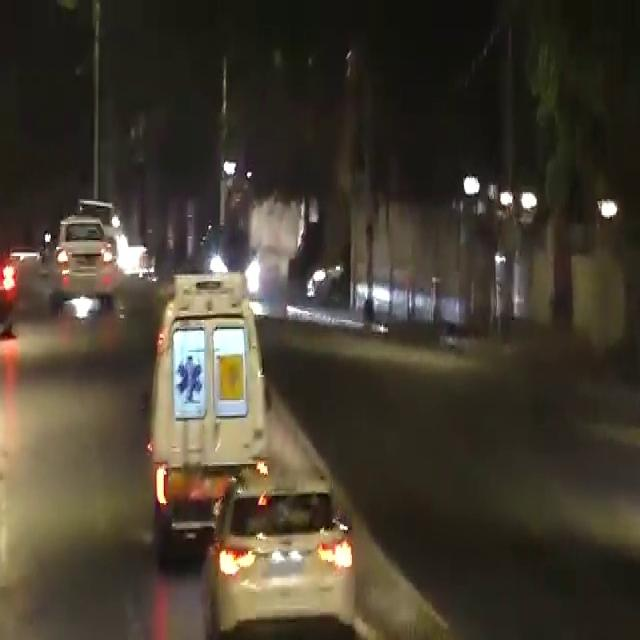ambulance: (137, 204, 268, 515)
